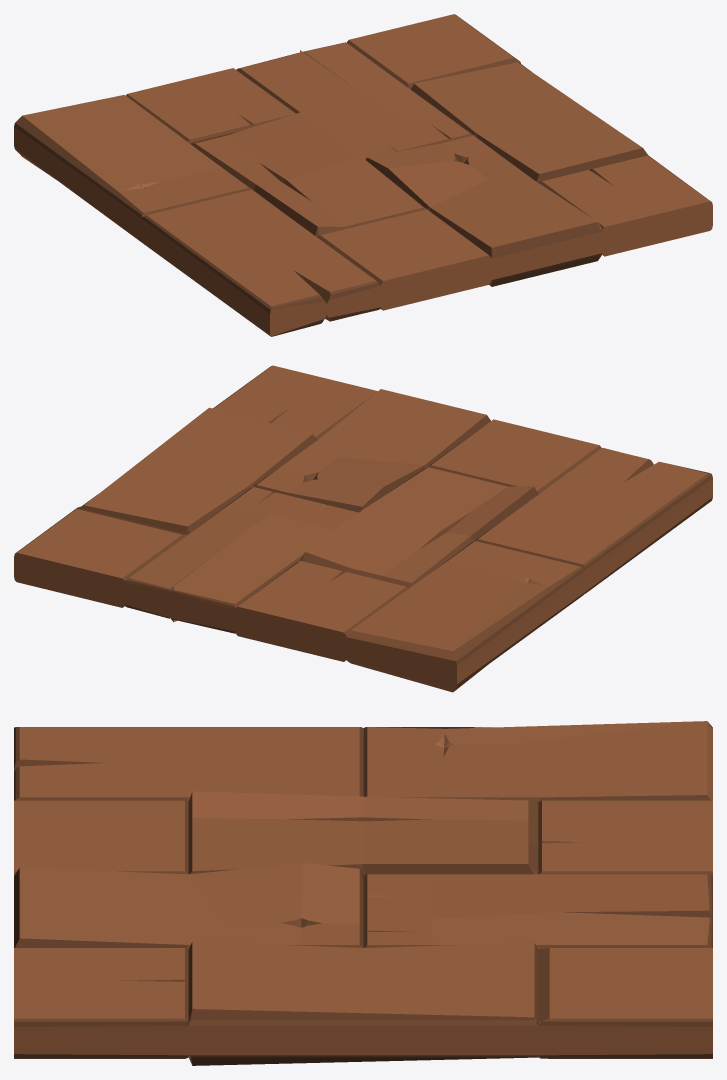
The model's file is Floor_Wood_2_2x2.fbx.
The picture shows the model from 3 angles, top to bottom: view 1: azimuth 30°, elevation 25°; view 2: azimuth 150°, elevation 25°; view 3: azimuth 270°, elevation 25°; orthographic projection. The views are drawn at different scales.
Parts seen in each view (by area): view 1: Floor_Wood.018; view 2: Floor_Wood.018; view 3: Floor_Wood.018.
Part boxes in pixels (x1,y1,x2,y2): Floor_Wood.018: (14, 14, 712, 336); Floor_Wood.018: (14, 365, 712, 692); Floor_Wood.018: (14, 721, 712, 1065).
Size of the model in its own units: 200 by 20 by 200.
